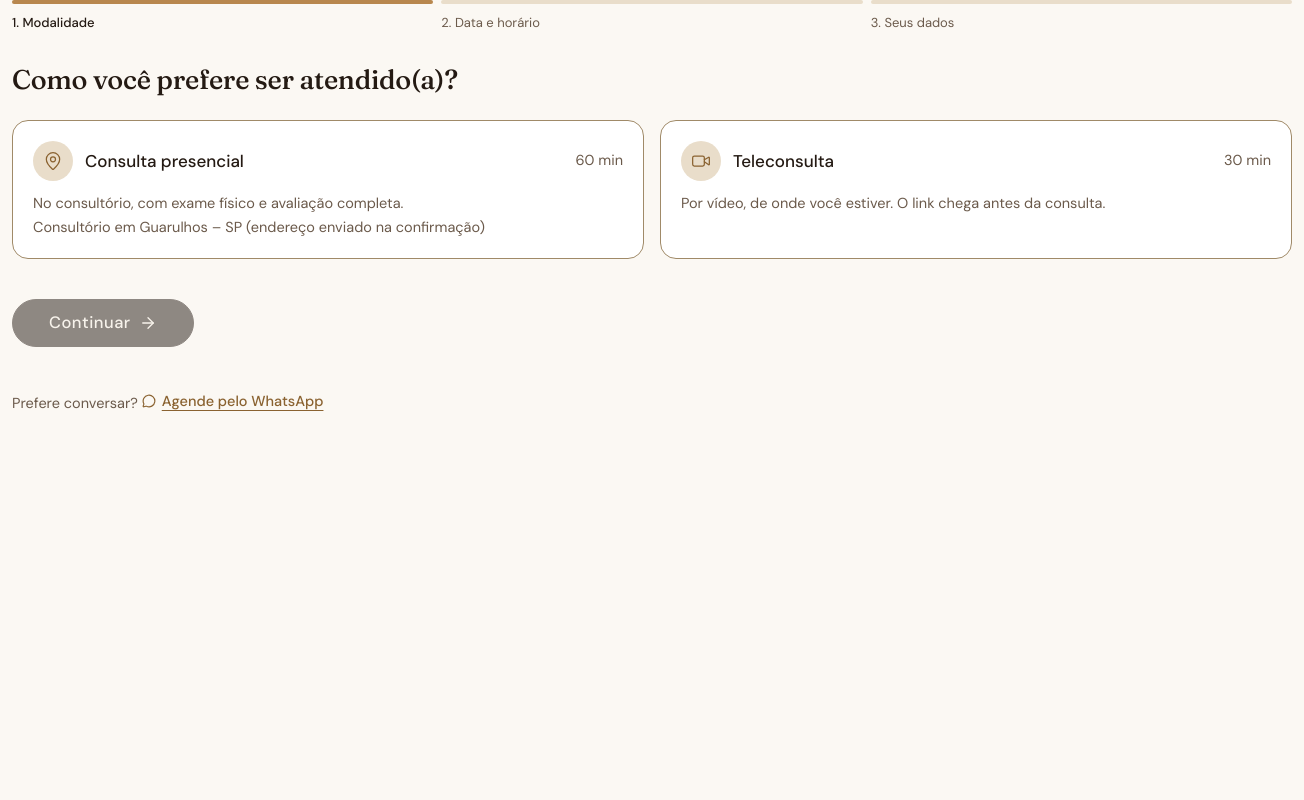
<FluxoAgendamento> › escolher dia e horário e continuar: vai para a etapa "Seus dados" com o resumo da escolha
The width and height of the screenshot is (1304, 800).
Click the radio button labelled "Consulta presencial" at (53, 161), box [12, 120, 644, 259]
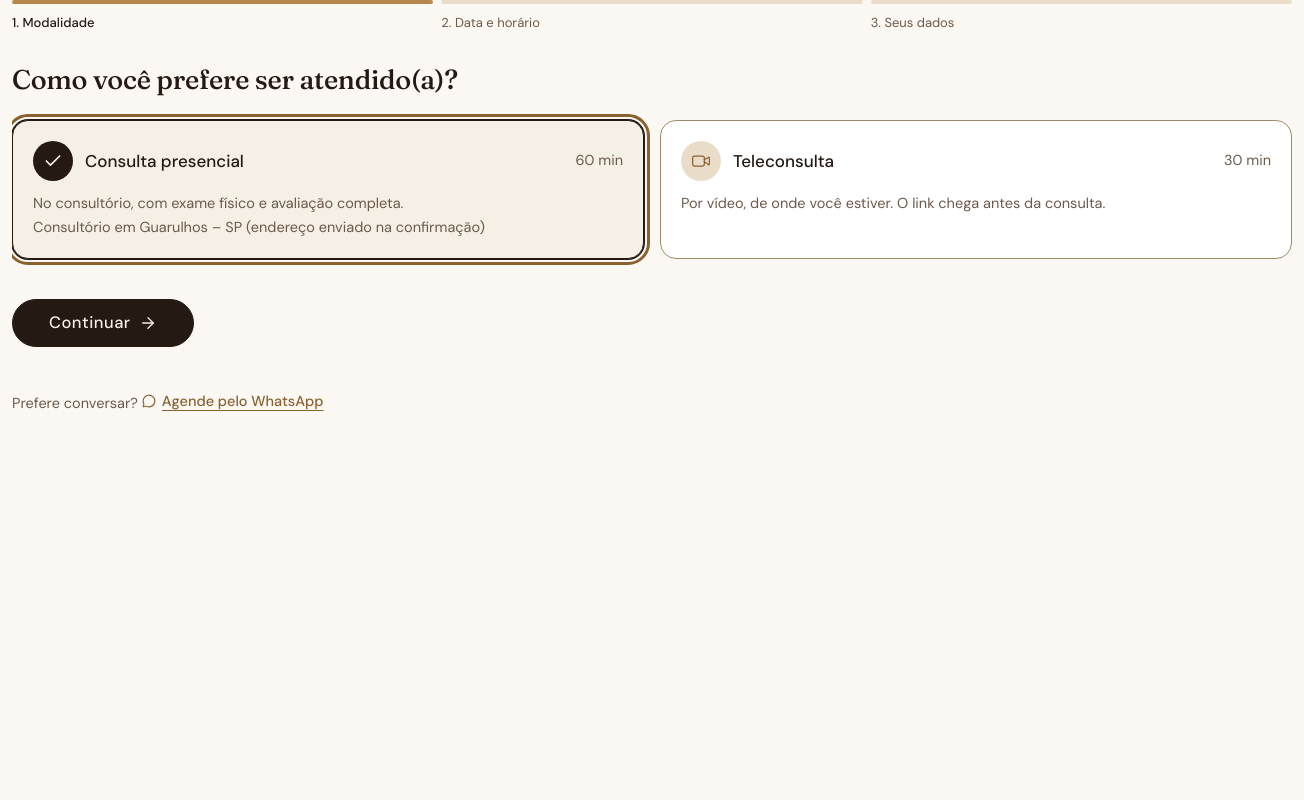
Click the button "Continuar" at (103, 323), box [12, 299, 194, 347]
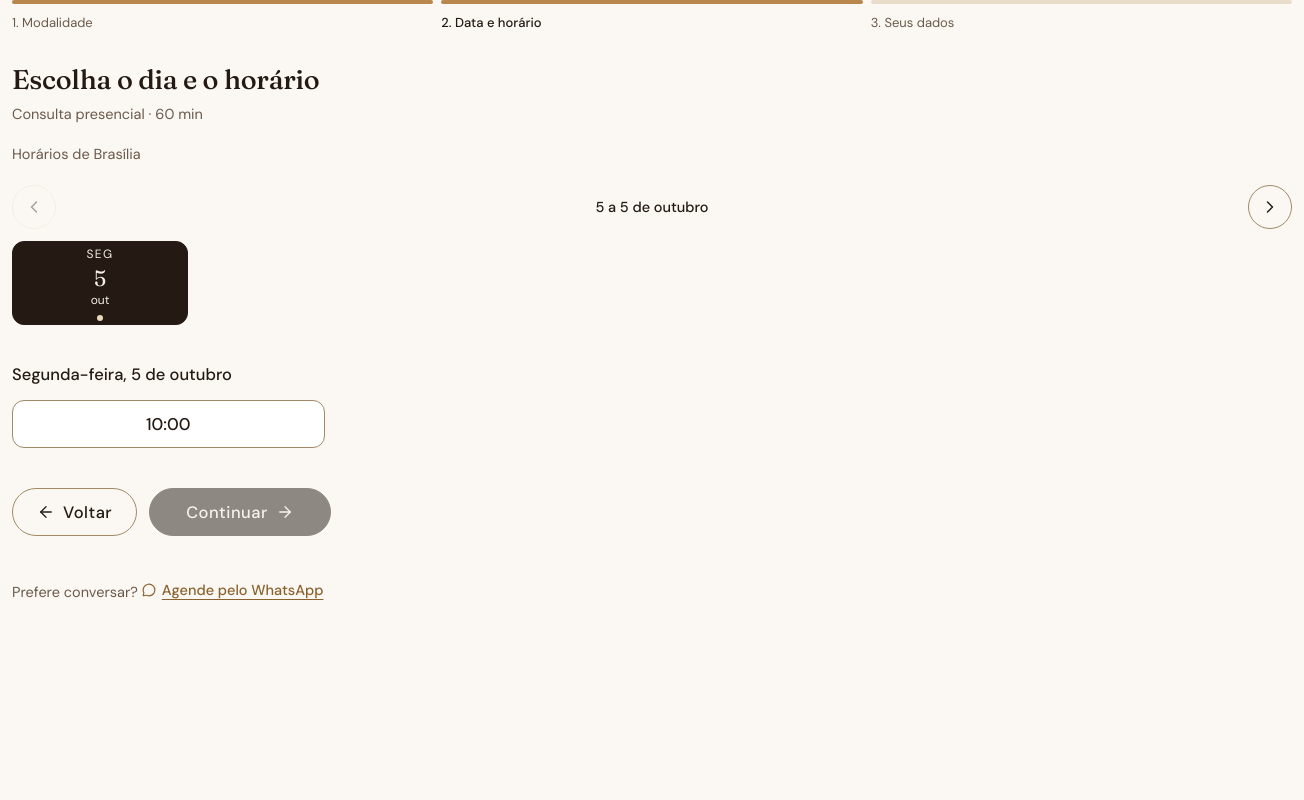
Expected: the heading "Escolha o dia e o horário" is shown, [12, 63, 319, 96]
Expected: the radio button labelled "10:00" is shown
Click the radio button labelled "10:00" at (168, 424), box [12, 400, 324, 448]
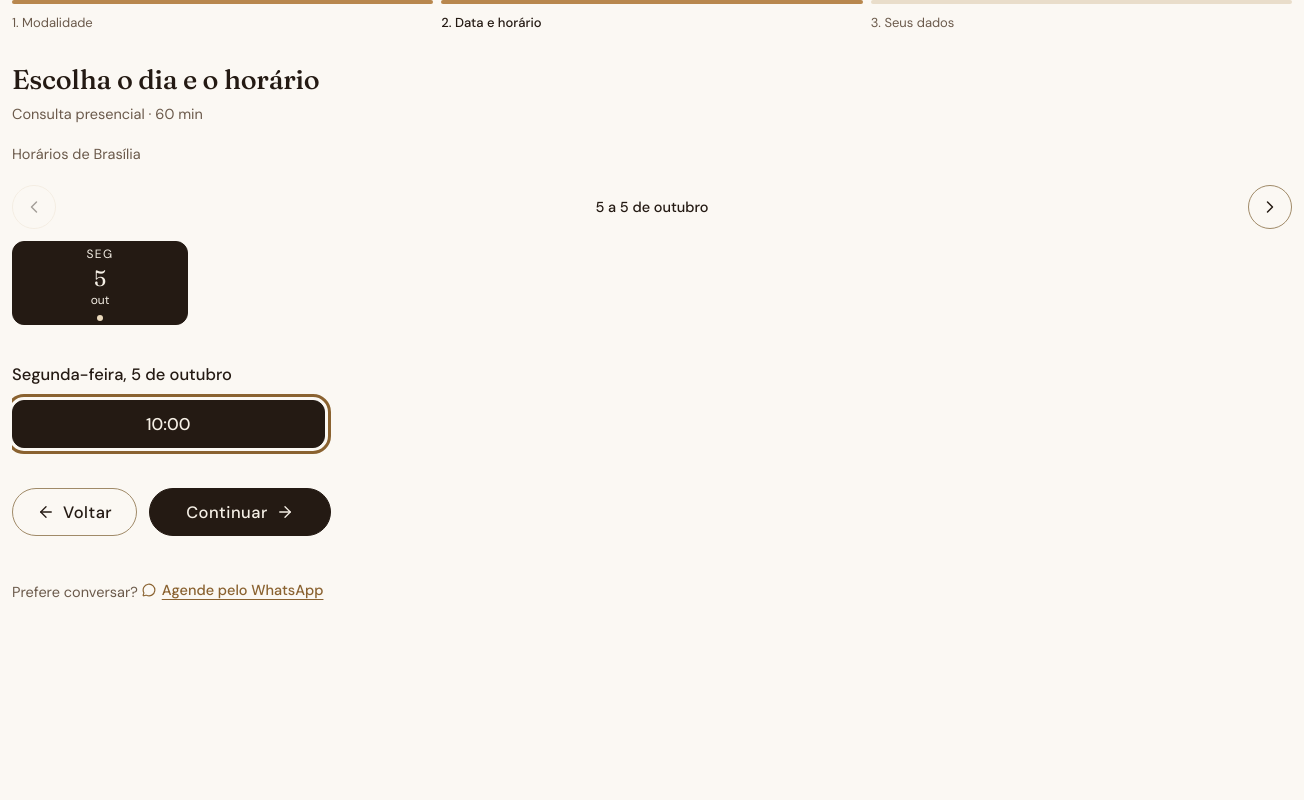
Click the button "Continuar" at (240, 512), box [149, 488, 331, 536]
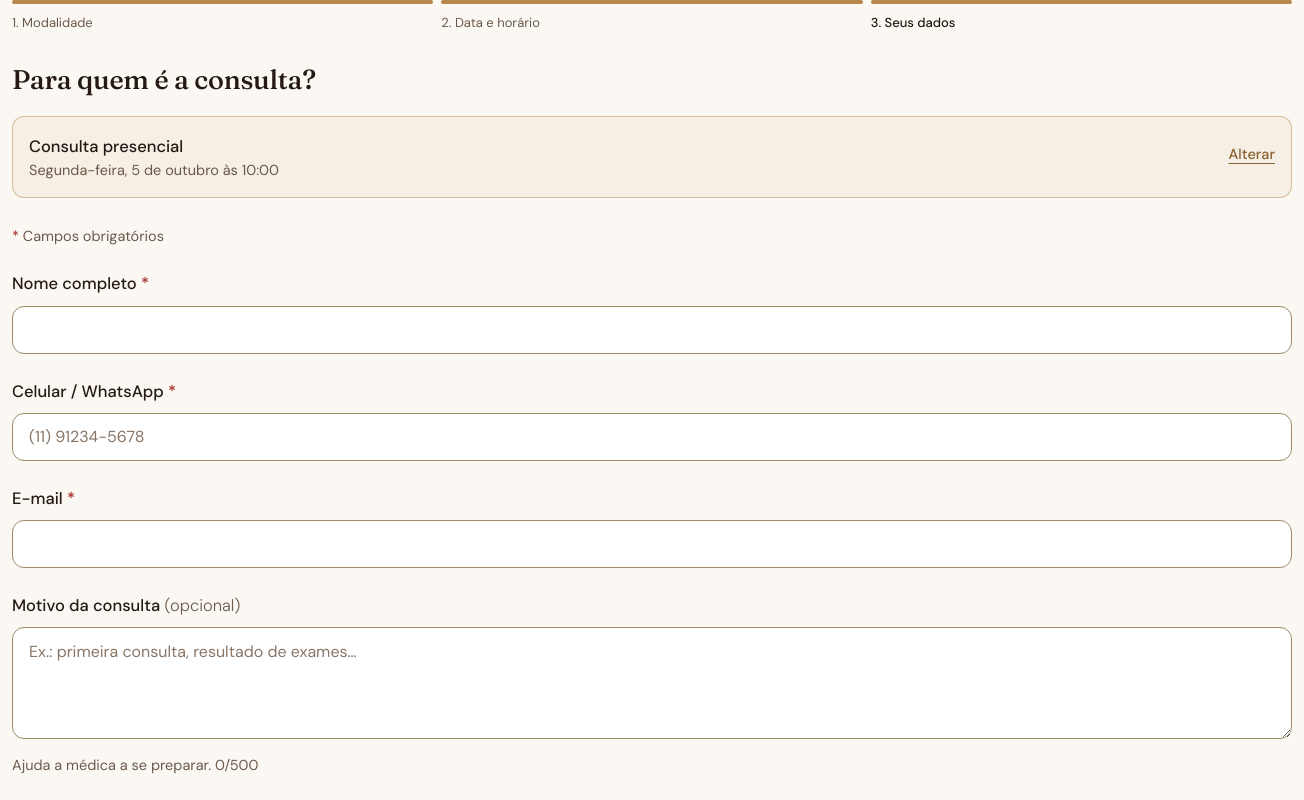
Expected: the text "Consulta presencial" is shown, [29, 136, 183, 157]
Expected: the heading "Para quem é a consulta?" is shown, [12, 63, 316, 96]
Expected: the text "segunda-feira, 5 de outubro às 10:00" is shown, [29, 160, 279, 181]
